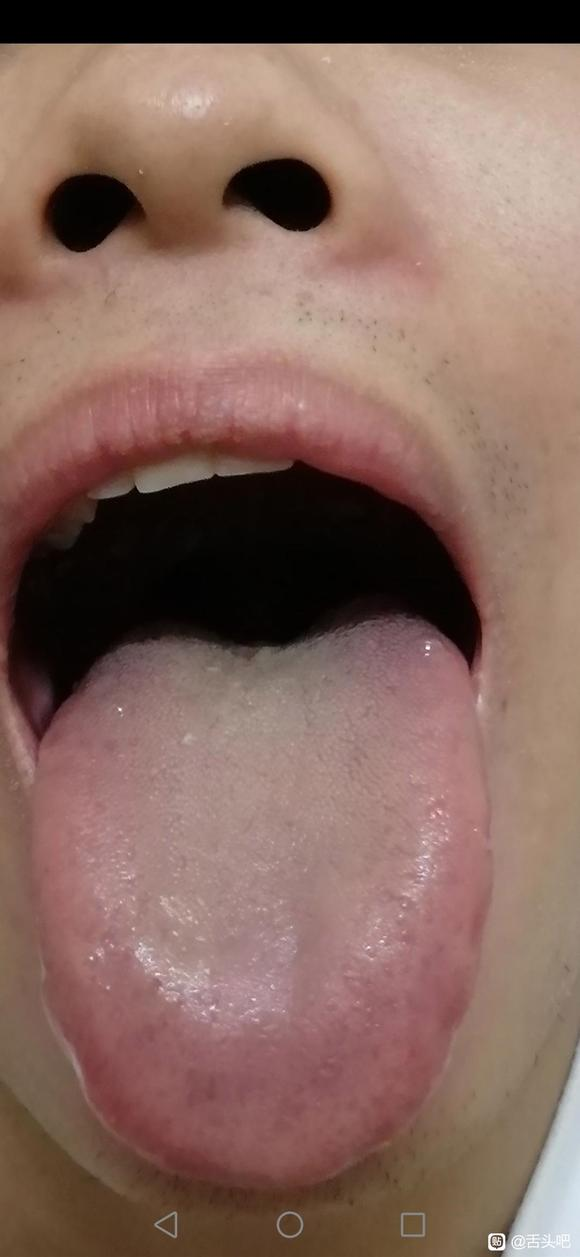chihenshe: (425, 866, 491, 1091), (32, 921, 89, 1098)
huangtaishe: (32, 596, 493, 1183)
shenquao: (157, 600, 391, 673)
